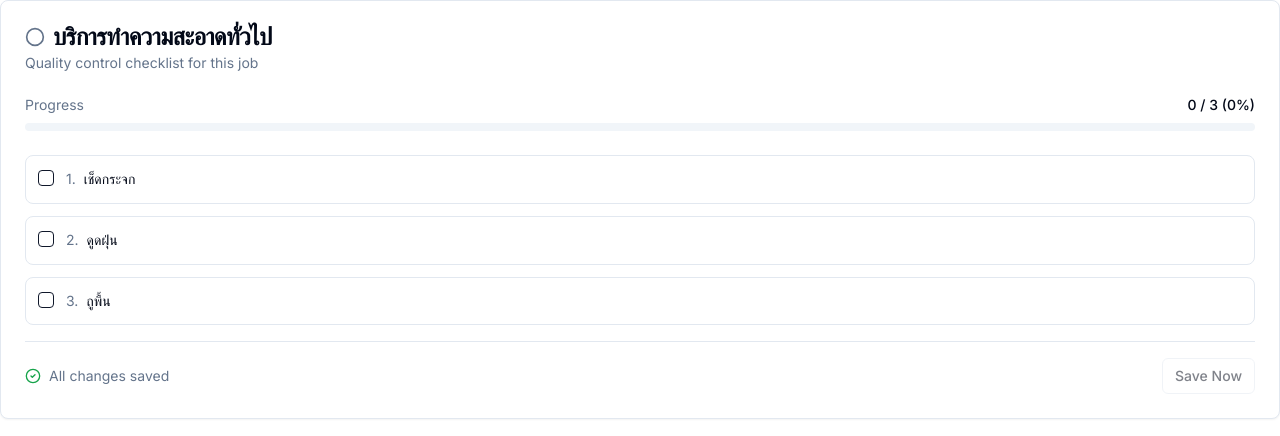
Test: ChecklistExecutor › Manual Save Button › should enable "Save Now" button when there are pending changes
The image size is (1280, 436).
Click the checkbox named "เช็ดกระจก" in the row of "เช็ดกระจก". click: (46, 178)
box: [38,170,54,186]
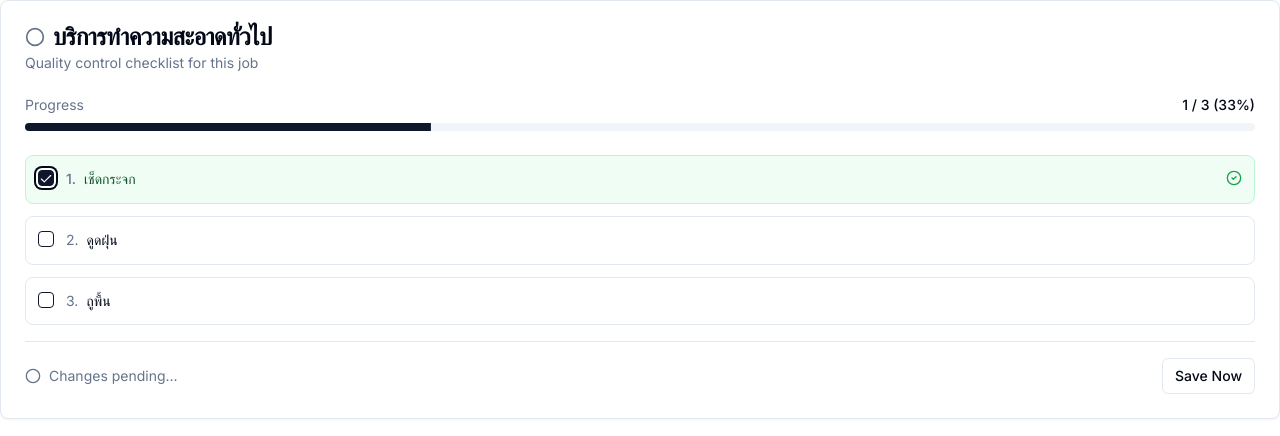
Expected: the button "Save Now" is enabled, [1162,358,1255,394]
